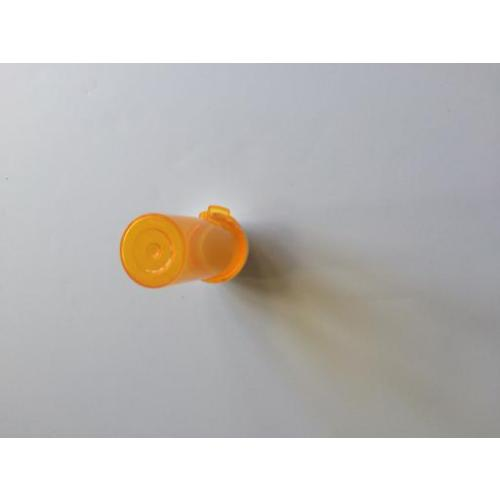plastic: (124, 209, 246, 287)
